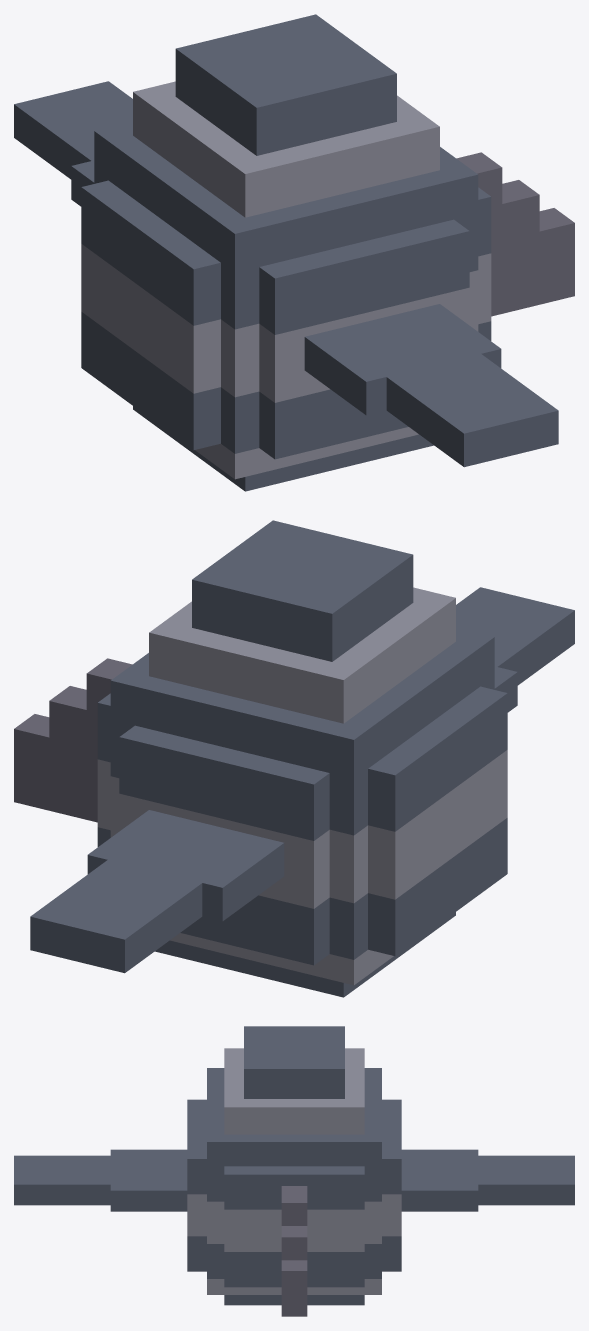
The model's file is 50.Swordfish.fbx.
3 renders of one model, top to bottom at view 1: azimuth 30°, elevation 25°; view 2: azimuth 150°, elevation 25°; view 3: azimuth 270°, elevation 25°, orthographic. The views are drawn at different scales.
Parts seen in each view (by area): view 1: Swordfish; view 2: Swordfish; view 3: Swordfish.
Boxes of the visible parts, x1,y1,x2,y2 form: Swordfish: [14, 14, 574, 491]; Swordfish: [14, 520, 574, 997]; Swordfish: [14, 1026, 574, 1316].
Size of the model in its own units: 4.14 by 3.39 by 7.56.
